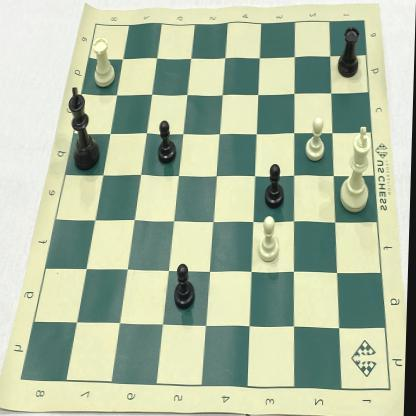black-king: (63, 84, 106, 179)
black-pawn: (172, 256, 204, 317), (154, 115, 184, 169), (262, 159, 292, 210)
black-rook: (334, 21, 366, 84)
white-king: (336, 120, 379, 218)
white-pawn: (255, 214, 286, 268), (301, 114, 330, 167)
white-rook: (90, 33, 120, 95)
